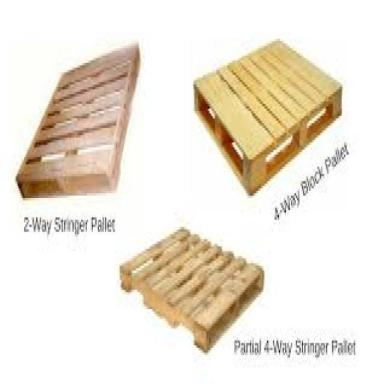pallet: (193, 38, 343, 199), (15, 41, 142, 200), (119, 226, 265, 356)
